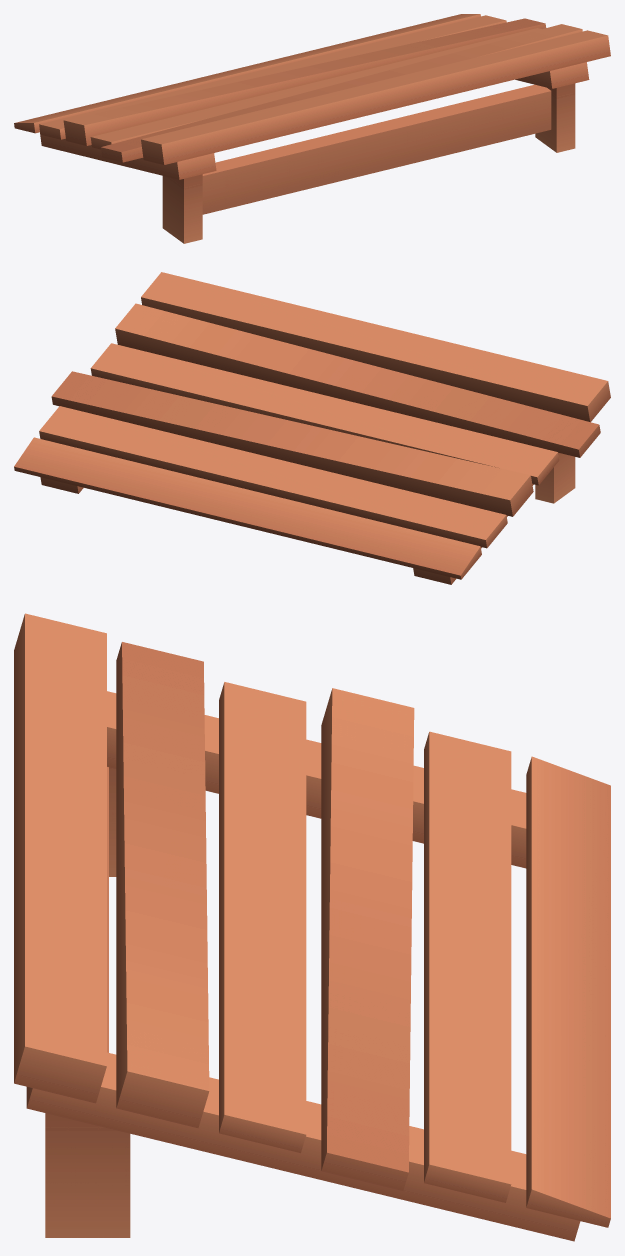
Rendered from ramp-wide-transformed-transformed.glb.
The picture shows the model from 3 angles, top to bottom: view 1: azimuth 30°, elevation 25°; view 2: azimuth 150°, elevation 25°; view 3: azimuth 270°, elevation 25°; orthographic projection. The views are drawn at different scales.
Visible parts, largest first — view 1: ramp-wide; view 2: ramp-wide; view 3: ramp-wide.
Boxes of the visible parts, <box> form: ramp-wide: <box>14,14,610,243</box>; ramp-wide: <box>14,272,610,584</box>; ramp-wide: <box>14,613,610,1241</box>.
Bounding box in the file's own units: 5.14 × 1.14 × 2.81.
Materials: 1 (1 with a texture image).
